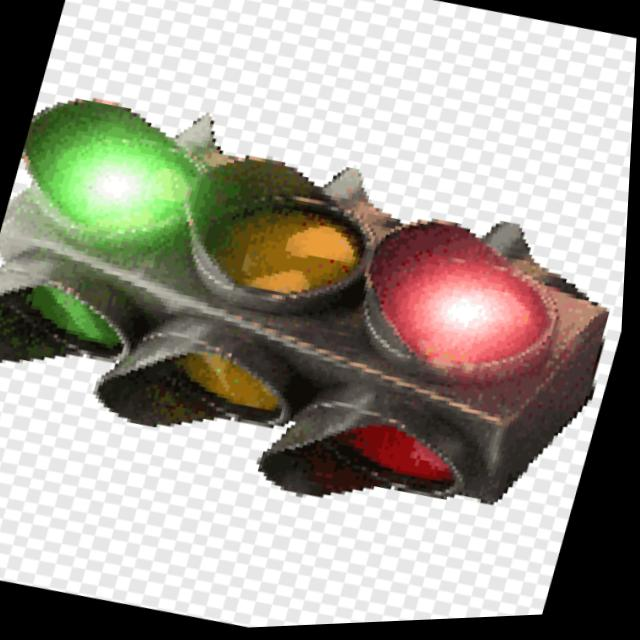green_light: (0, 27, 255, 310)
red_light: (341, 172, 626, 447)
